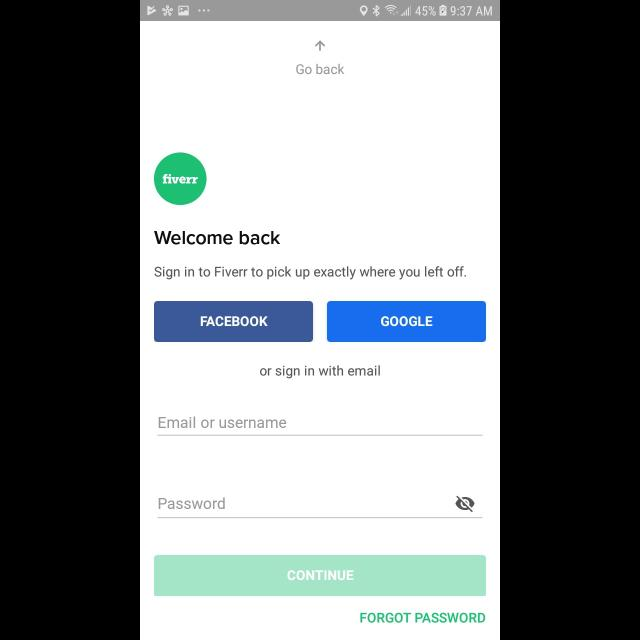icon: (455, 496, 475, 512), (315, 40, 325, 51)
image: (154, 152, 206, 205)
input: (158, 496, 482, 518), (158, 416, 482, 436)
text: (154, 266, 466, 280), (154, 231, 282, 245), (260, 365, 380, 379), (159, 416, 287, 428), (360, 612, 486, 624), (158, 497, 226, 509), (296, 64, 344, 74)
textbutton: (154, 556, 486, 596), (154, 302, 314, 342), (326, 302, 486, 342)
uppertaskbar: (140, 1, 500, 22)
